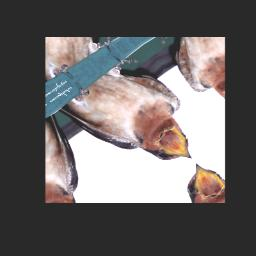Swallow: (51, 44, 217, 198)
